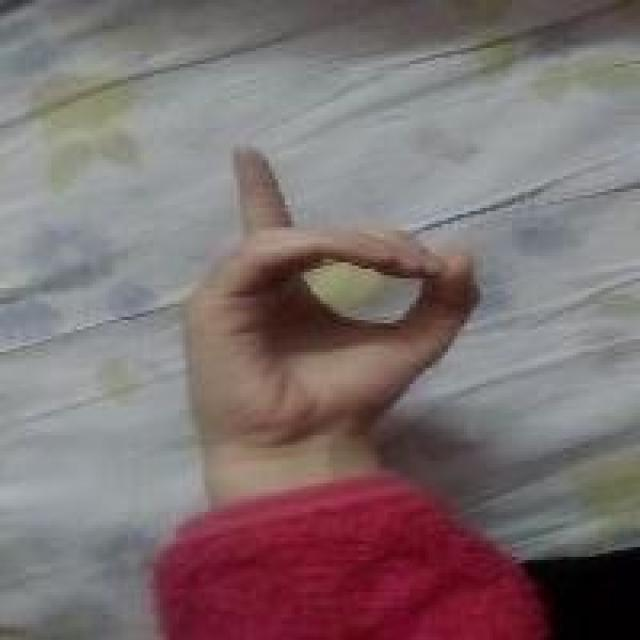D: (174, 136, 501, 462)
